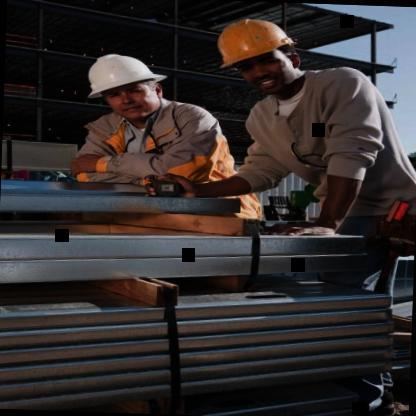helmet: (209, 18, 304, 95), (80, 51, 168, 120)
